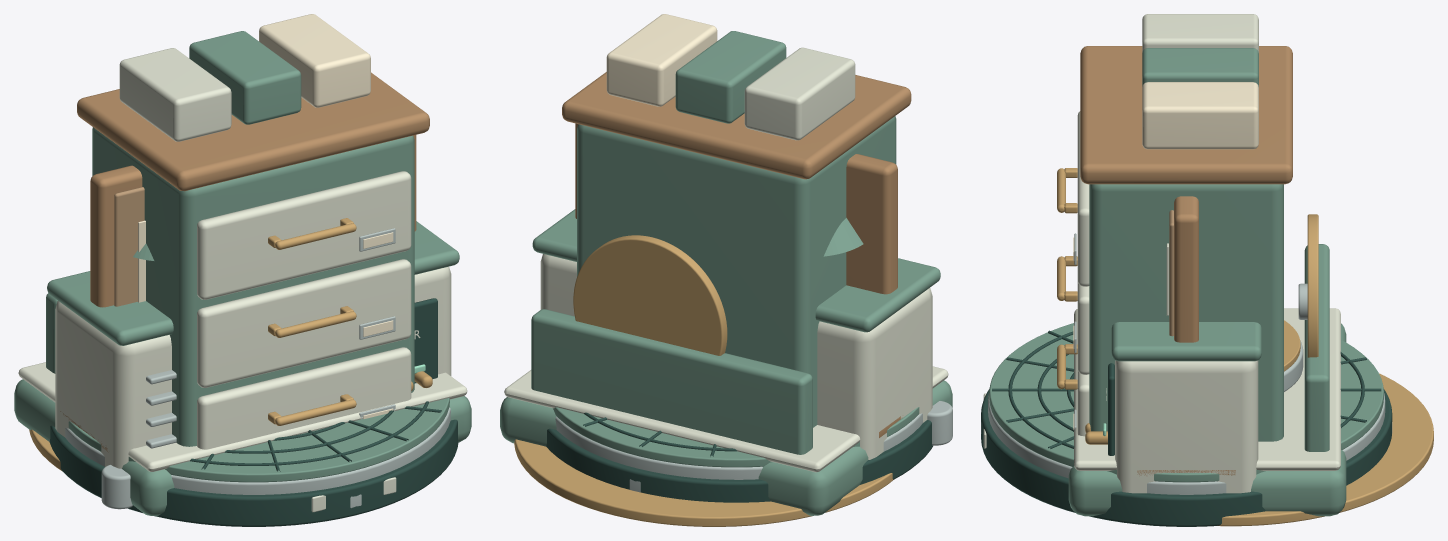
The model's file is workshop-catalog.glb.
The picture shows the model from 3 angles, left to right: view 1: azimuth 30°, elevation 25°; view 2: azimuth 150°, elevation 25°; view 3: azimuth 270°, elevation 25°; orthographic projection.
Parts seen in each view (by area): view 1: shop_storage_cabinet_mesh, shop_environment_mesh, working_pad_1_mesh, shop_pad_1_mesh, shop_care_1_mesh, shop_note_board_mesh, shop_endpoint_1_mesh, shop_care_2_mesh, shop_pad_2_mesh; view 2: shop_storage_cabinet_mesh, shop_care_2_mesh, shop_environment_mesh, shop_care_1_mesh, shop_pad_2_mesh, working_pad_1_mesh, shop_pad_1_mesh, shop_note_board_mesh, shop_endpoint_1_mesh, shop_task_lamp_mesh; view 3: shop_storage_cabinet_mesh, shop_environment_mesh, working_pad_1_mesh, shop_care_1_mesh, shop_pad_1_mesh, shop_pad_2_mesh, shop_care_2_mesh, shop_note_board_mesh, working_care_1_mesh.
Part boxes in pixels (x1,y1,x2,y2): shop_storage_cabinet_mesh: [77, 14, 429, 449]; shop_environment_mesh: [47, 221, 459, 468]; working_pad_1_mesh: [65, 398, 450, 494]; shop_pad_1_mesh: [49, 419, 458, 526]; shop_care_1_mesh: [14, 362, 471, 516]; shop_note_board_mesh: [90, 135, 416, 307]; shop_endpoint_1_mesh: [101, 464, 132, 509]; shop_care_2_mesh: [46, 293, 57, 373]; shop_pad_2_mesh: [29, 429, 361, 508]; shop_storage_cabinet_mesh: [562, 14, 911, 427]; shop_care_2_mesh: [531, 235, 812, 454]; shop_environment_mesh: [532, 209, 940, 459]; shop_care_1_mesh: [500, 366, 952, 515]; shop_pad_2_mesh: [514, 439, 893, 526]; working_pad_1_mesh: [553, 407, 922, 479]; shop_pad_1_mesh: [546, 420, 932, 502]; shop_note_board_mesh: [575, 123, 897, 294]; shop_endpoint_1_mesh: [927, 401, 952, 445]; shop_task_lamp_mesh: [823, 218, 863, 256]; shop_storage_cabinet_mesh: [1057, 14, 1292, 441]; shop_environment_mesh: [1103, 322, 1261, 493]; working_pad_1_mesh: [988, 323, 1385, 494]; shop_care_1_mesh: [1068, 308, 1346, 516]; shop_pad_1_mesh: [981, 389, 1392, 526]; shop_pad_2_mesh: [981, 373, 1433, 526]; shop_care_2_mesh: [1298, 214, 1329, 451]; shop_note_board_mesh: [1166, 196, 1198, 342]; working_care_1_mesh: [1284, 320, 1303, 391].
Size of the model in its own units: 3 by 3.02 by 3.26.
